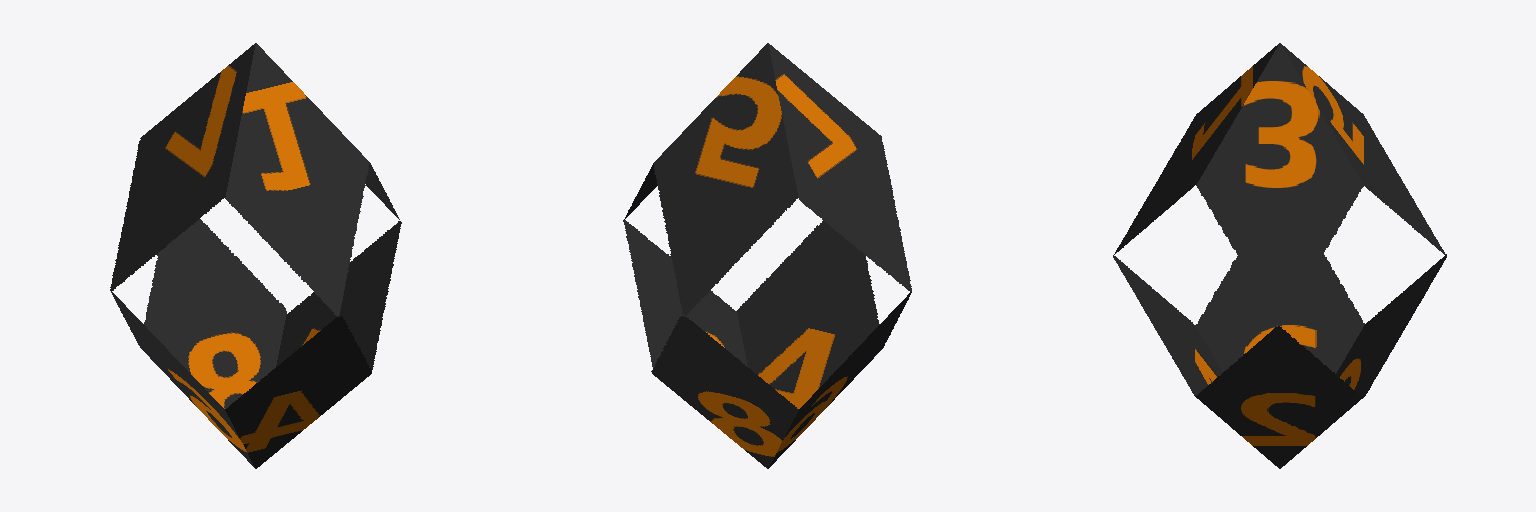
3 views of the same model, side by side, from view 1: azimuth 30°, elevation 25°; view 2: azimuth 150°, elevation 25°; view 3: azimuth 270°, elevation 25° (orthographic).
Visible parts, largest first — view 1: Hedra01; view 2: Hedra01; view 3: Hedra01.
Boxes of the visible parts, <box> form: Hedra01: <box>110,43,401,468</box>; Hedra01: <box>623,43,911,468</box>; Hedra01: <box>1113,43,1446,468</box>.
Size of the model in its own units: 0.5374 by 0.76 by 0.5374.
Materials: 1 (1 with a texture image).